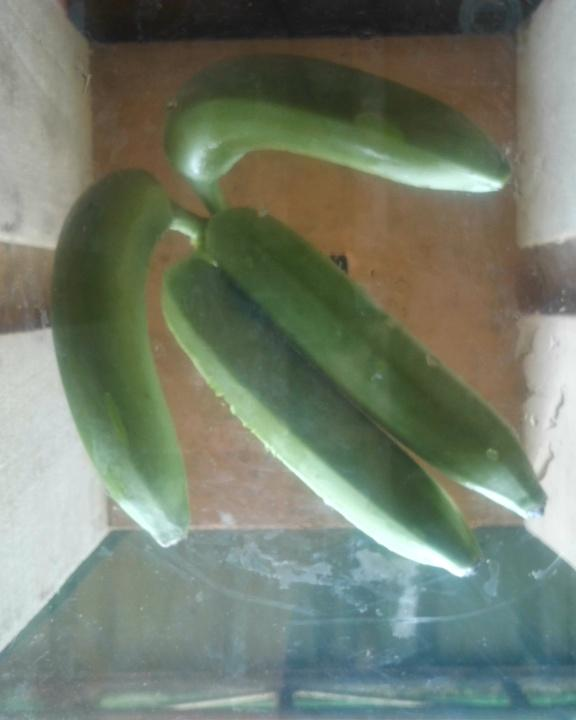SPOT: (19, 42, 553, 569)
